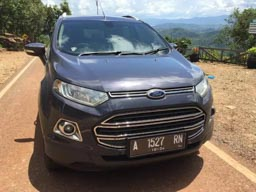plat: (129, 133, 183, 157)
